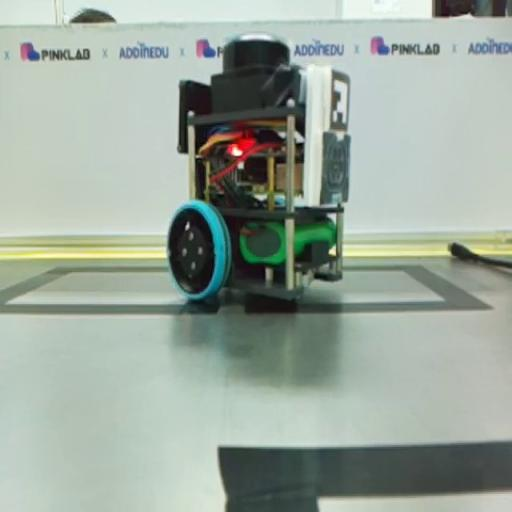pinky_63: (166, 33, 350, 300)
